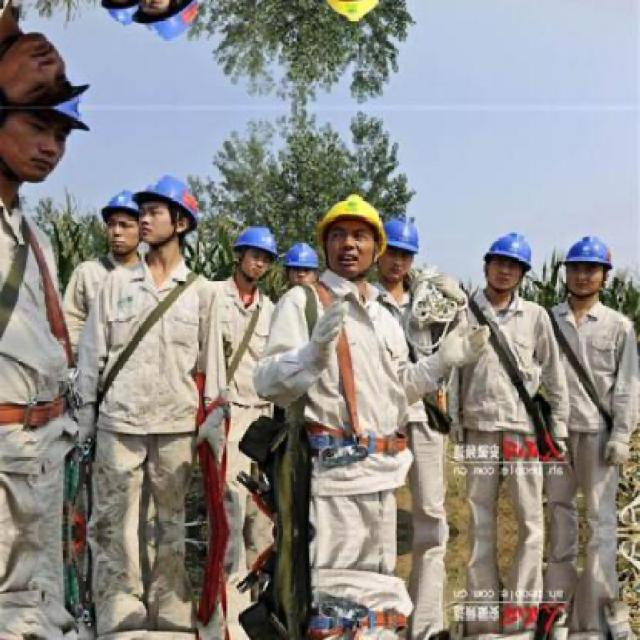2: (257, 197, 461, 529), (71, 172, 212, 530), (2, 108, 92, 529), (454, 230, 546, 528), (372, 214, 457, 529), (549, 234, 637, 526), (197, 223, 275, 528), (257, 532, 463, 638), (70, 532, 212, 638), (1, 0, 94, 106), (1, 532, 94, 638), (452, 534, 546, 638), (372, 532, 458, 638), (550, 536, 638, 638), (197, 534, 277, 638)
helmet: (2, 108, 92, 186), (2, 28, 92, 106), (320, 190, 395, 282), (130, 168, 204, 257), (556, 229, 618, 305), (480, 226, 538, 300), (371, 209, 426, 283), (97, 183, 151, 255), (129, 0, 205, 46), (231, 222, 283, 284), (280, 240, 322, 288), (320, 0, 397, 23), (97, 0, 152, 31)
